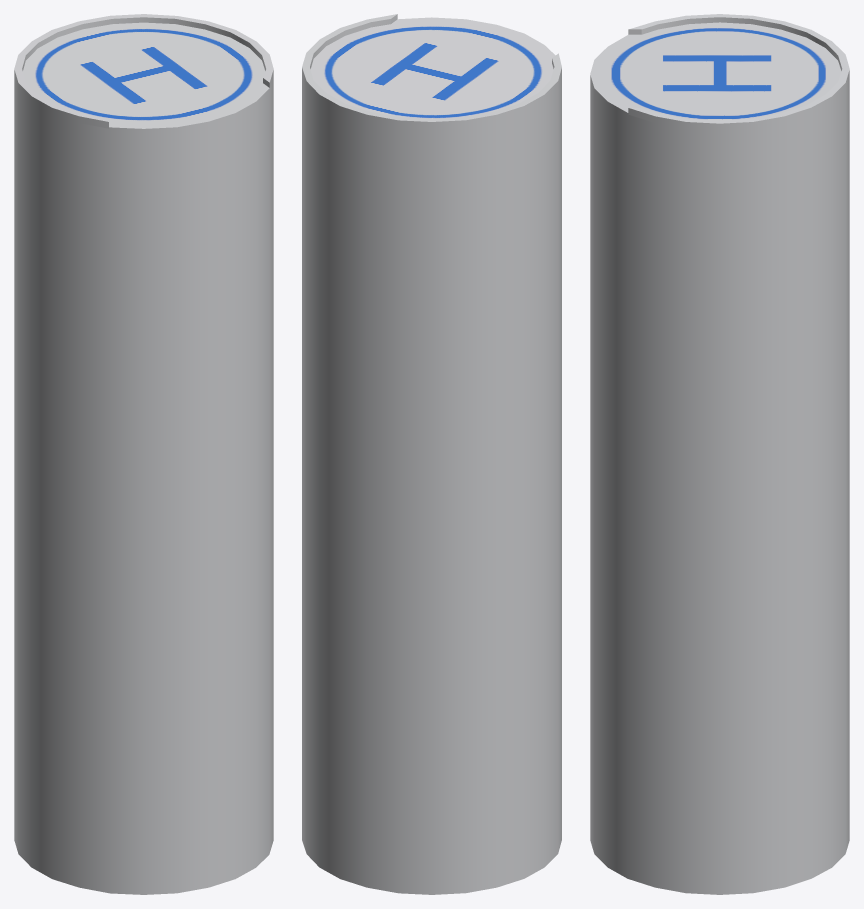
Rendered from Helipad.fbx.
3 renders of one model, left to right at view 1: azimuth 30°, elevation 25°; view 2: azimuth 150°, elevation 25°; view 3: azimuth 270°, elevation 25°, orthographic.
Visible parts, largest first — view 1: Helipad; view 2: Helipad; view 3: Helipad.
Boxes of the visible parts, bbox=[...] form: Helipad: bbox=[14, 14, 273, 894]; Helipad: bbox=[302, 14, 561, 894]; Helipad: bbox=[590, 14, 849, 894].
Bounding box in the file's own units: 798 × 2617 × 798.
Materials: 1 (1 with a texture image).
